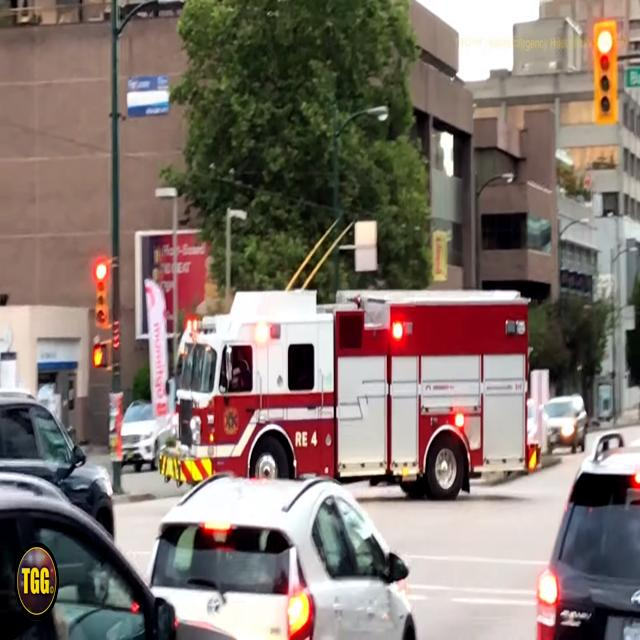emergency-vehicles: (150, 268, 544, 511)
